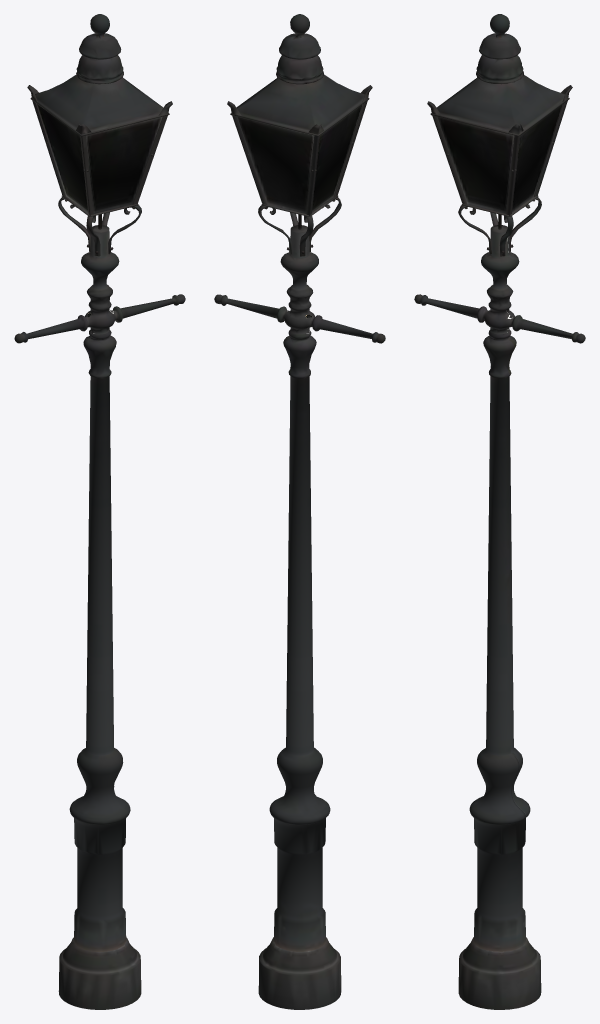
The model's file is street_lamp_01.glb.
The picture shows the model from 3 angles, left to right: view 1: azimuth 30°, elevation 25°; view 2: azimuth 150°, elevation 25°; view 3: azimuth 330°, elevation 25°; orthographic projection.
Parts seen in each view (by area): view 1: street_lamp_01; view 2: street_lamp_01; view 3: street_lamp_01.
Boxes of the visible parts, x1=… form: street_lamp_01: x1=14, y1=14, x2=185, y2=1009; street_lamp_01: x1=214, y1=14, x2=385, y2=1009; street_lamp_01: x1=414, y1=14, x2=585, y2=1009.
Bounding box in the file's own units: 0.704 × 3.87 × 0.3856.
2 materials, 2 textured.
